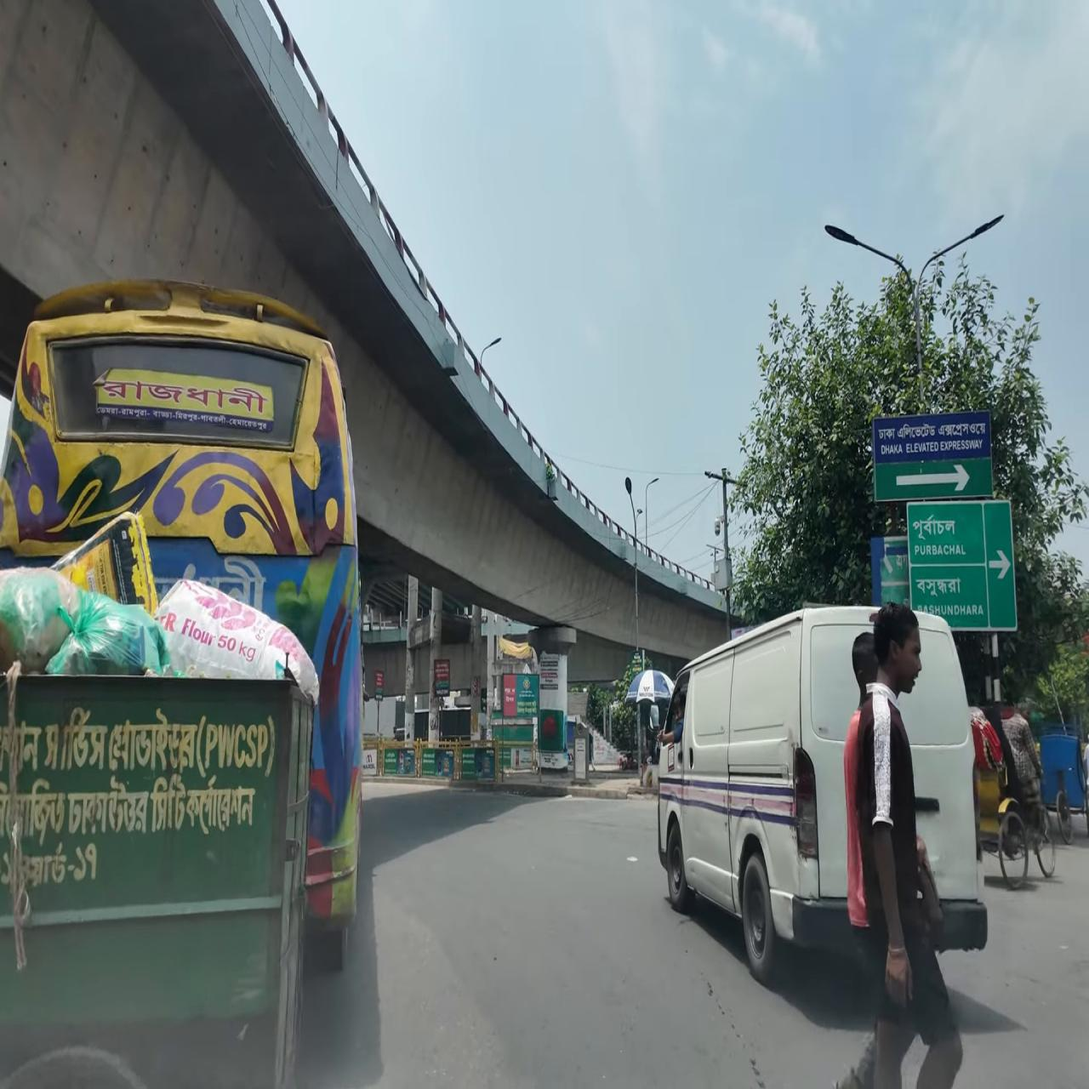person: (833, 601, 965, 1089)
